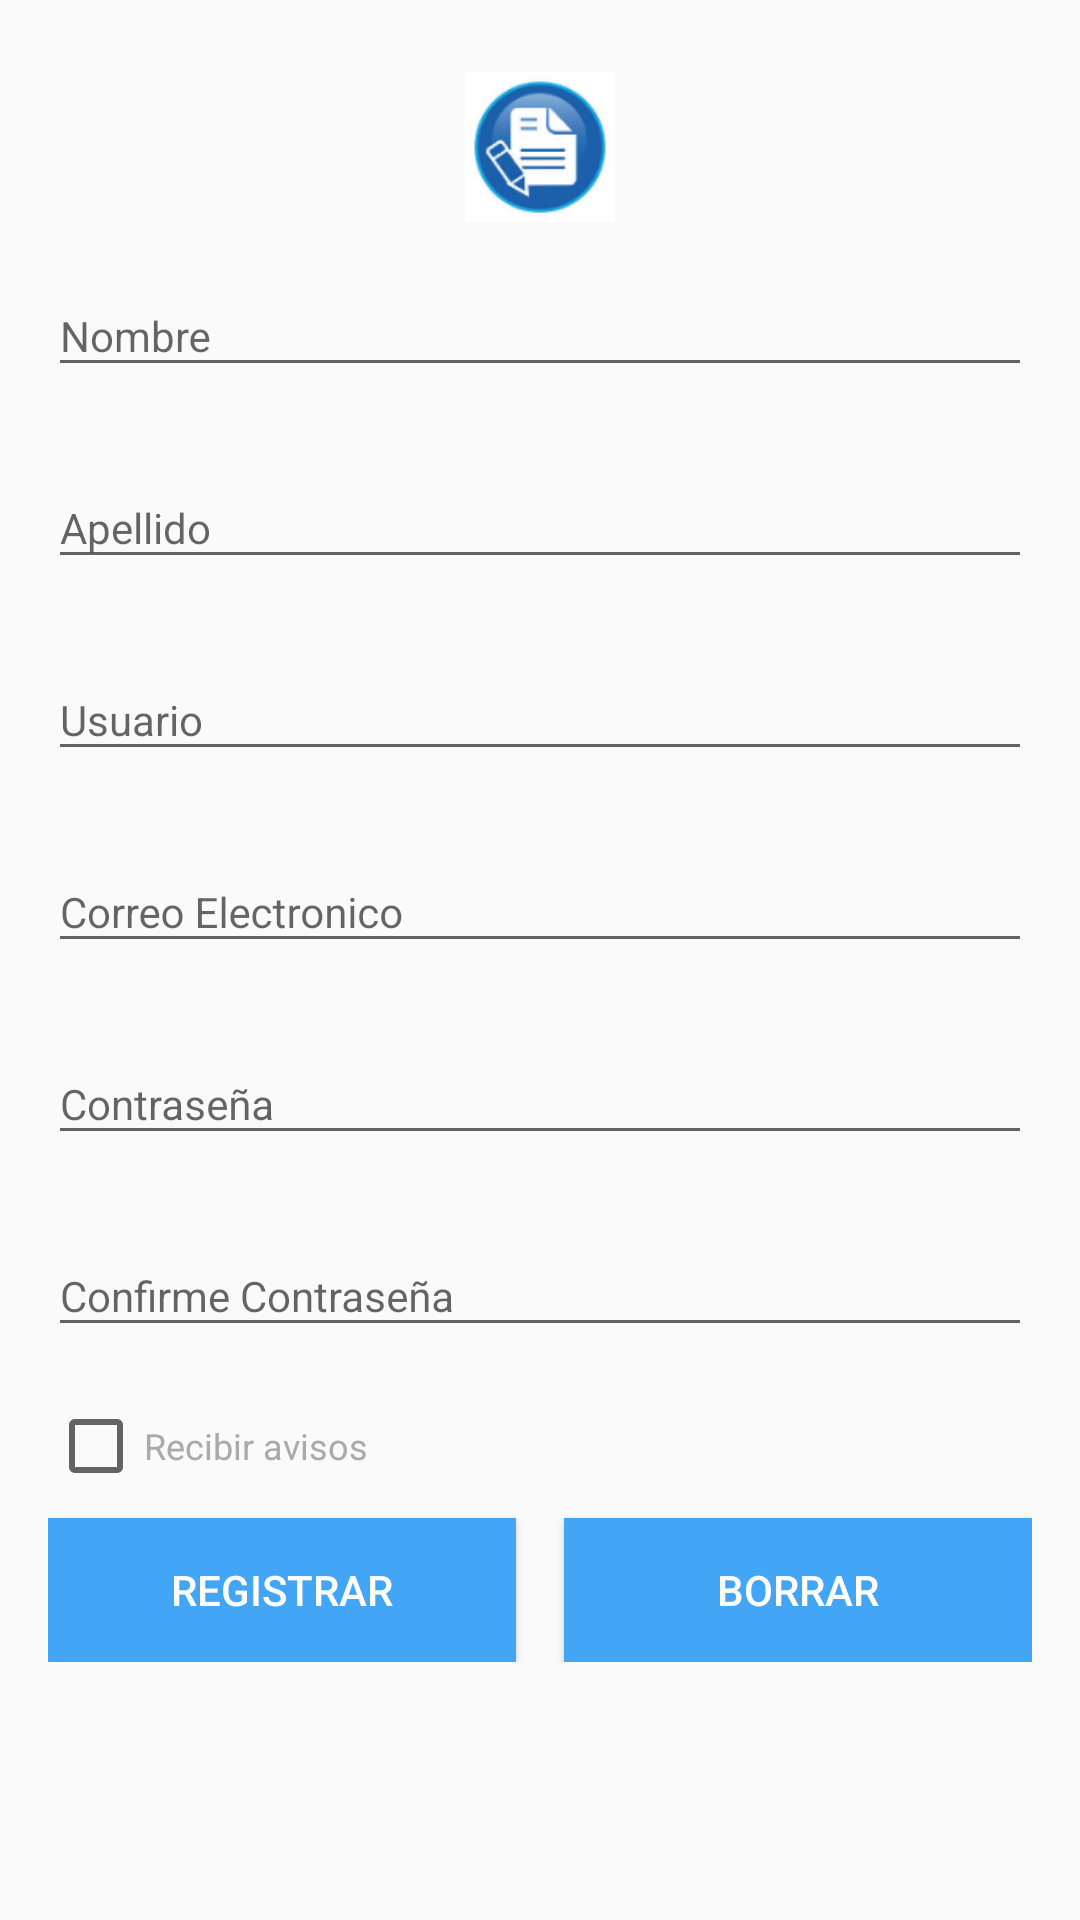

Named icons in this screenshot (1080 x 1920) and their bounding boxes, [x1,y1,x2,y2]:
registro: [474,81,606,213]
